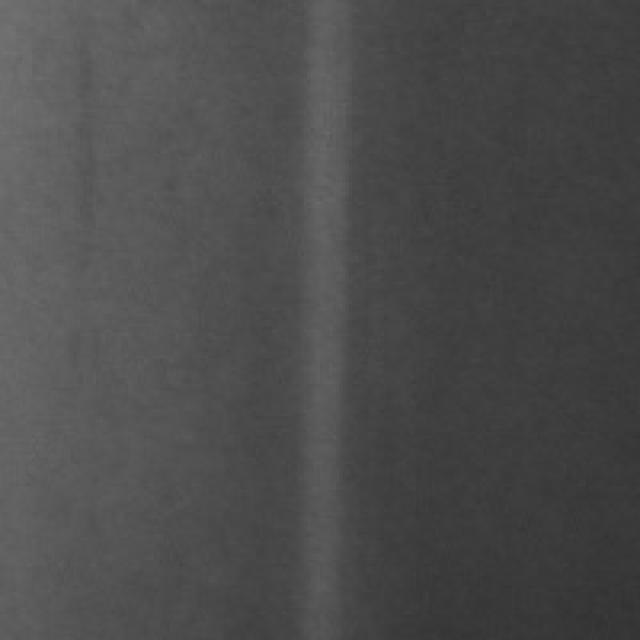scratches: (294, 22, 352, 605)
